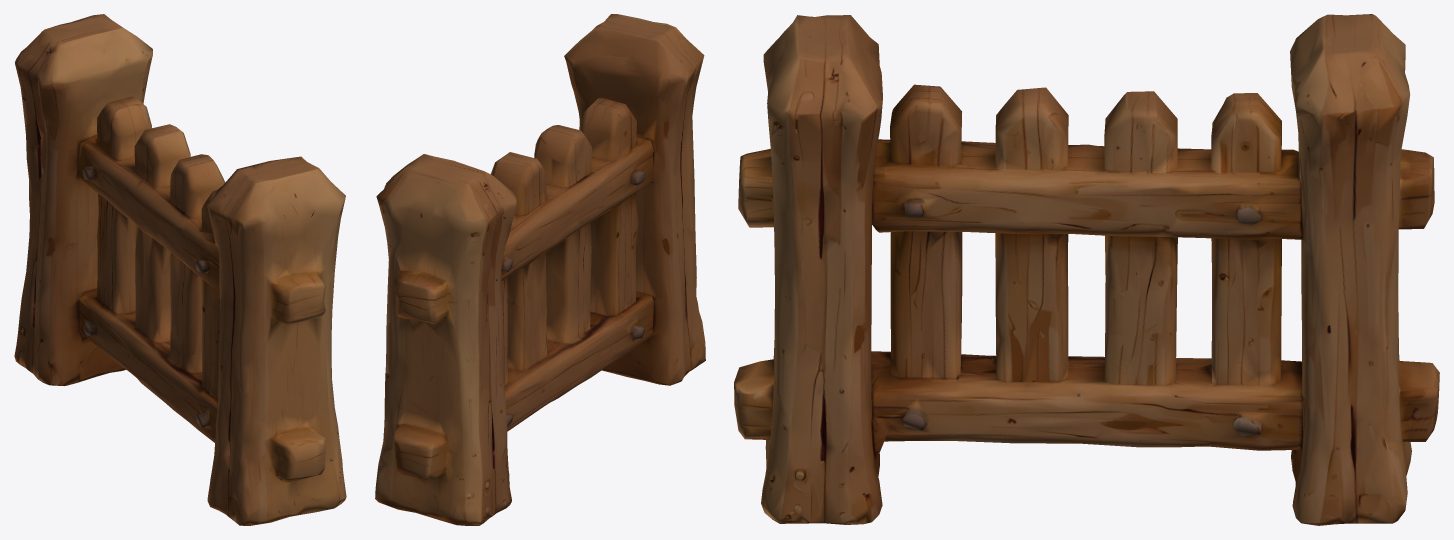
File: fence.glb
3 views of the same model, side by side, from view 1: azimuth 30°, elevation 25°; view 2: azimuth 150°, elevation 25°; view 3: azimuth 270°, elevation 25° (orthographic). The views are drawn at different scales.
Visible parts, largest first — view 1: tripo_node_ee3d9fab-3969-4dcc-b3db-9a67442b2fb6; view 2: tripo_node_ee3d9fab-3969-4dcc-b3db-9a67442b2fb6; view 3: tripo_node_ee3d9fab-3969-4dcc-b3db-9a67442b2fb6.
Part boxes in pixels (bbox=[...]): tripo_node_ee3d9fab-3969-4dcc-b3db-9a67442b2fb6: bbox=[14, 14, 346, 525]; tripo_node_ee3d9fab-3969-4dcc-b3db-9a67442b2fb6: bbox=[375, 14, 705, 525]; tripo_node_ee3d9fab-3969-4dcc-b3db-9a67442b2fb6: bbox=[734, 14, 1439, 525].
Bounding box in the file's own units: 0.2676 × 0.7111 × 1.
1 material, 1 textured.
